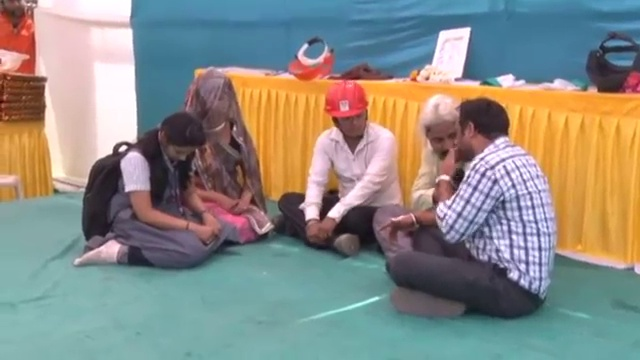helmet: (323, 84, 370, 120), (0, 50, 30, 78)
helmet_off: (452, 97, 513, 164), (154, 112, 209, 169), (188, 74, 240, 132), (421, 98, 456, 160), (0, 1, 32, 23)
helmet_on: (322, 85, 371, 145)
person: (385, 94, 559, 319), (70, 109, 235, 269), (269, 70, 404, 255), (183, 66, 272, 247), (373, 96, 466, 257), (0, 0, 36, 87)
